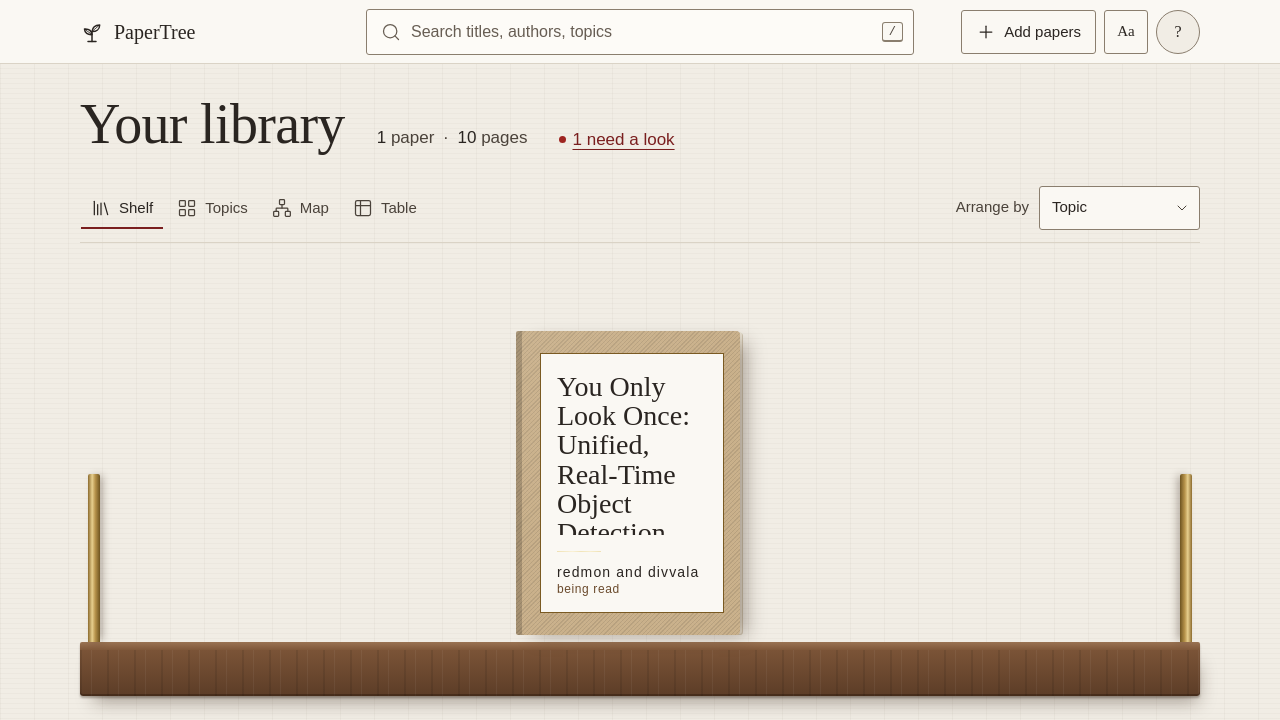
Test: library rows from the API (S1 shape) › queued reads Queued
The width and height of the screenshot is (1280, 720).
Click the button with aria-label "You Only Look Once: Unified, Real-Time Object Detection, Red": (628, 482) x1=516 y1=330 x2=740 y2=634
(page scrolled)
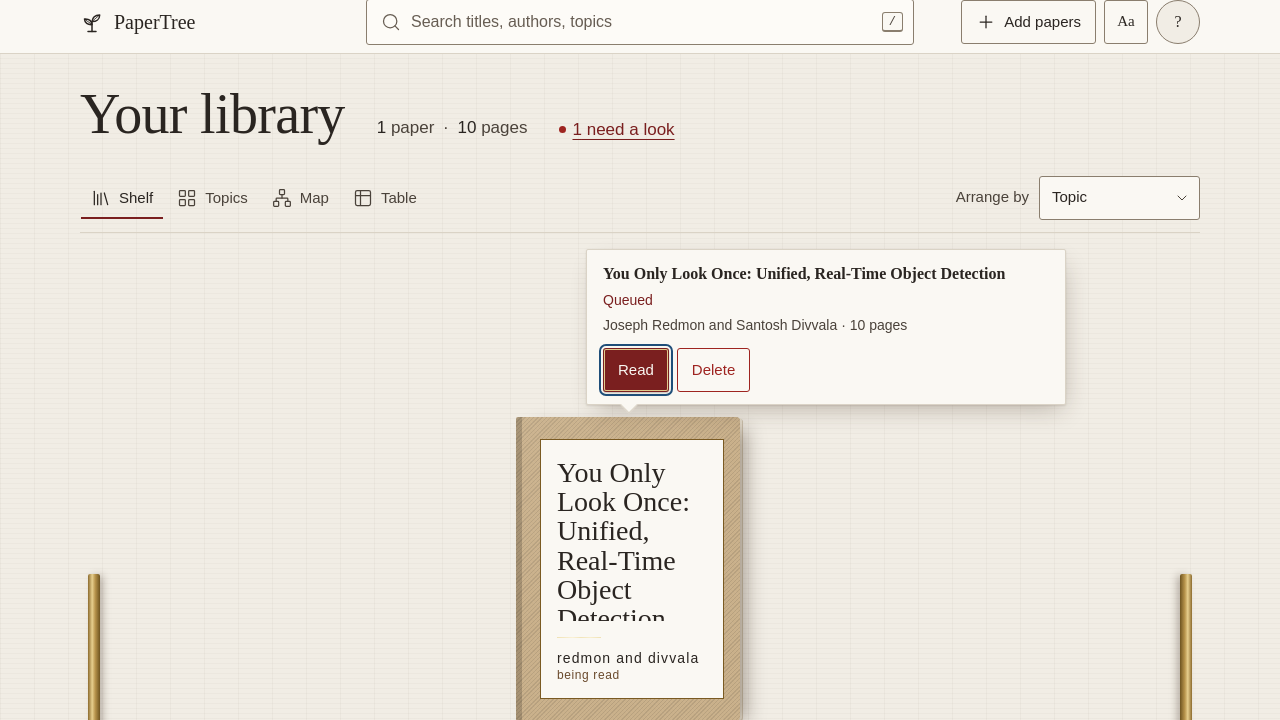
Result: the text "Queued" is shown at x1=603 y1=290 x2=653 y2=310
